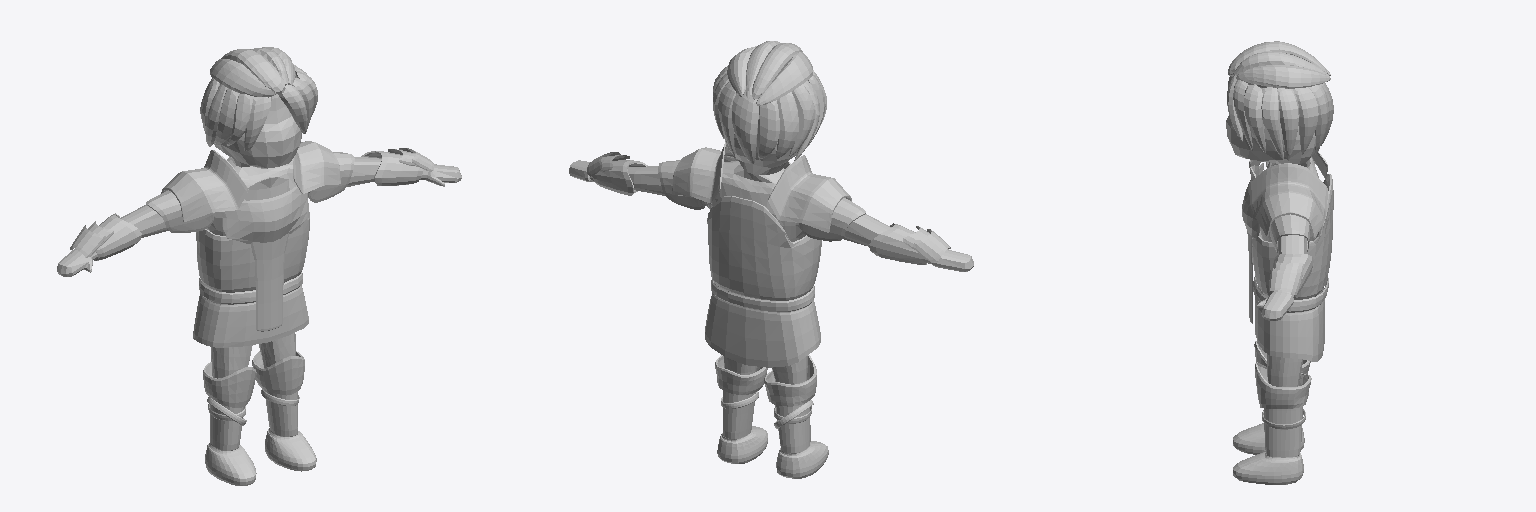
Rendered from Warrior_base.obj.
The picture shows the model from 3 angles: view 1: azimuth 30°, elevation 25°; view 2: azimuth 150°, elevation 25°; view 3: azimuth 270°, elevation 25°; orthographic projection.
Visible parts, largest first — view 1: Body, Hair1, polySurface63 polySurface62 polySurface8 polySurface7 polySurfac, polySurface7 polySurface3 polySurface1 pCube3 polySurface9, polySurface49, polySurface54, polySurface53, polySurface20, polySurface27, pPlane7, polySurface62 polySurface8 polySurface7 polySurface3 polySurface, polySurface7 polySurface3 polySurface1 pCube3 polySurface10; view 2: polySurface63 polySurface62 polySurface8 polySurface7 polySurfac, Hair1, Body, polySurface49, polySurface54, polySurface53, polySurface20, polySurface27, pPlane7, polySurface62 polySurface8 polySurface7 polySurface3 polySurface; view 3: Hair1, polySurface63 polySurface62 polySurface8 polySurface7 polySurfac, polySurface53, polySurface20, Body, pPlane7, polySurface54, polySurface7 polySurface3 polySurface1 pCube3 polySurface9, polySurface62 polySurface8 polySurface7 polySurface3 polySurface.
Part boxes in pixels (x1,y1,x2,y2): Body: (57,94,461,378); Hair1: (200,47,317,152); polySurface63 polySurface62 polySurface8 polySurface7 polySurfac: (193,212,309,347); polySurface7 polySurface3 polySurface1 pCube3 polySurface9: (221,186,308,331); polySurface49: (146,150,248,232); polySurface54: (203,362,256,485); polySurface53: (252,351,316,471); polySurface20: (293,141,354,202); polySurface27: (70,213,141,260); pPlane7: (361,148,434,185); polySurface62 polySurface8 polySurface7 polySurface3 polySurface: (199,272,302,304); polySurface7 polySurface3 polySurface1 pCube3 polySurface10: (245,177,289,200); polySurface63 polySurface62 polySurface8 polySurface7 polySurfac: (705,196,821,367); Hair1: (713,41,826,164); Body: (569,134,973,384); polySurface49: (768,155,865,241); polySurface54: (764,355,828,478); polySurface53: (715,355,767,463); polySurface20: (658,142,737,209); polySurface27: (869,223,950,264); pPlane7: (587,152,647,195); polySurface62 polySurface8 polySurface7 polySurface3 polySurface: (711,279,814,311); Hair1: (1227,41,1333,160); polySurface63 polySurface62 polySurface8 polySurface7 polySurfac: (1252,174,1333,361); polySurface53: (1233,362,1311,484); polySurface20: (1249,163,1327,252); Body: (1226,88,1318,386); pPlane7: (1269,254,1313,298); polySurface54: (1233,341,1310,454); polySurface7 polySurface3 polySurface1 pCube3 polySurface9: (1242,163,1263,323); polySurface62 polySurface8 polySurface7 polySurface3 polySurface: (1253,276,1328,312).
Size of the model in its own units: 13.74 by 13.59 by 3.2.